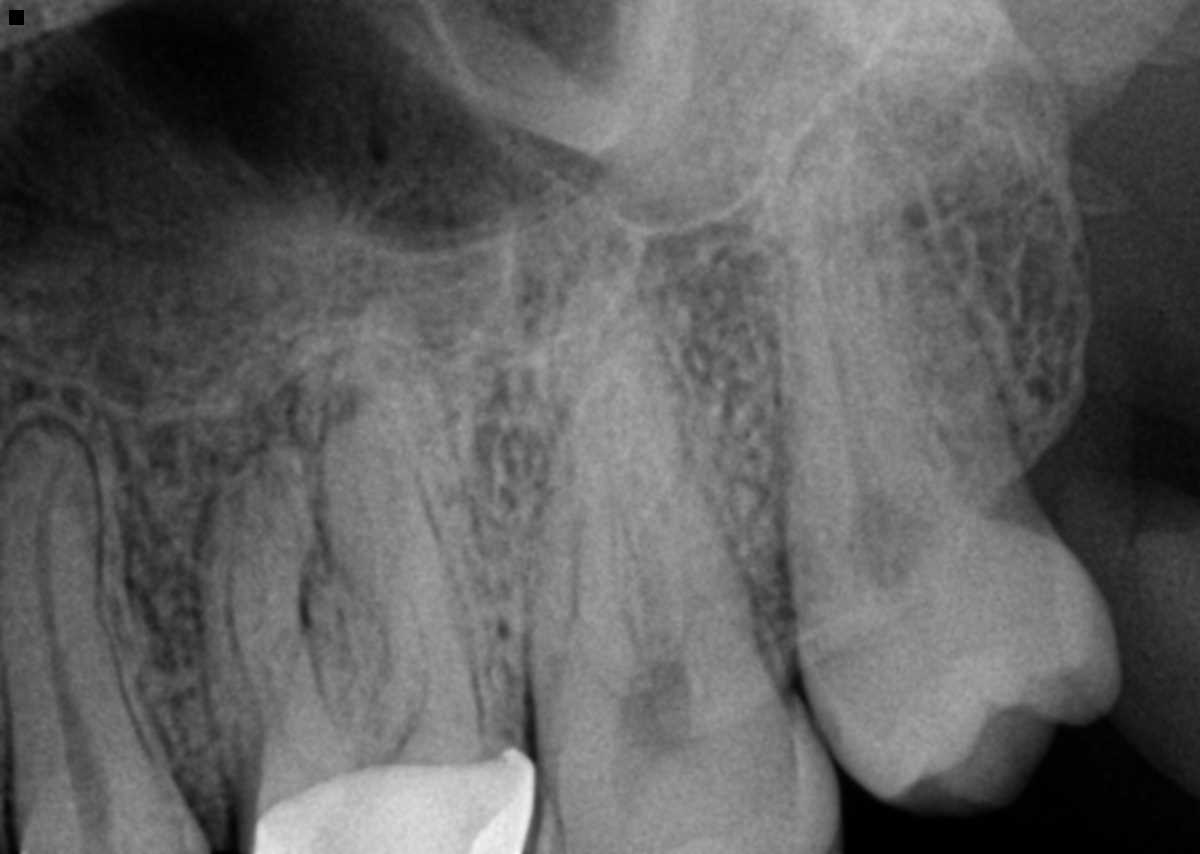Apical Lesion: (331, 181, 461, 365), (171, 396, 311, 520)
Distal Canal: (667, 506, 695, 679), (402, 593, 426, 730)
Distal Root: (315, 416, 485, 713), (624, 351, 753, 680)
Main Canal: (33, 450, 111, 828), (834, 275, 889, 507)
Main Root: (778, 121, 1019, 621), (0, 415, 190, 832)
Mesial Root: (191, 441, 336, 760), (523, 366, 642, 731)
Palatal Root: (556, 249, 766, 717), (305, 291, 502, 721)
